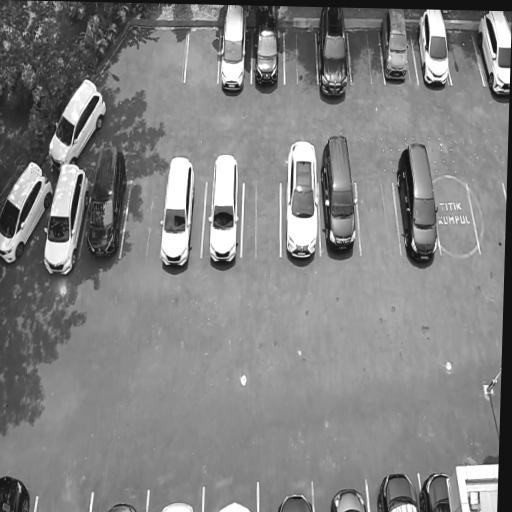Car: (41, 73, 114, 175), (0, 150, 57, 275), (37, 164, 95, 281), (81, 139, 132, 269), (393, 138, 441, 269), (156, 151, 204, 277), (281, 136, 324, 264), (203, 145, 242, 276), (322, 131, 360, 258), (475, 11, 512, 111), (220, 5, 251, 109), (320, 7, 353, 104), (417, 9, 453, 95), (252, 6, 282, 100), (380, 8, 414, 90), (374, 471, 423, 512), (421, 470, 456, 512), (0, 468, 29, 512), (103, 486, 143, 512), (275, 490, 317, 512), (327, 491, 370, 512), (158, 493, 197, 512), (216, 492, 251, 512)
Space Available: (120, 177, 166, 257), (356, 180, 402, 255), (437, 179, 480, 254), (242, 183, 281, 255), (471, 179, 506, 252), (183, 22, 223, 84), (446, 26, 484, 83), (349, 26, 384, 83), (285, 24, 317, 85), (36, 490, 94, 512)
